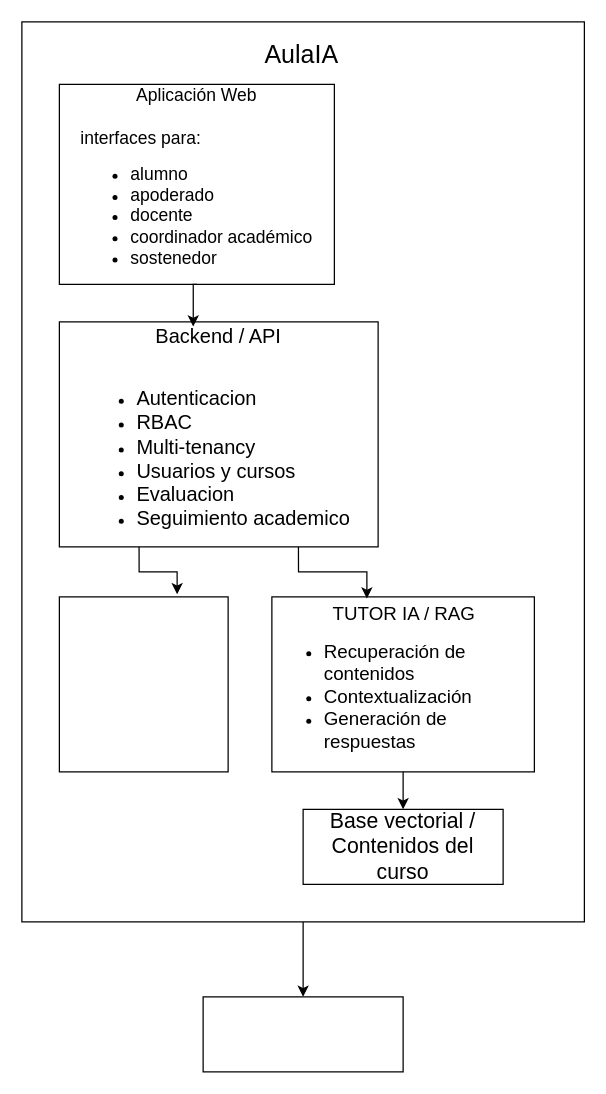
The diagram is 606 pixels wide and 1094 high, and some of its shapes have lost their labels. Each missing label, with the centre of its shape:
Base de datos Colegios Usuarios Cursos Notas Evaluaciones: (143,684)
Servicio / Modelo de IA Externo: (302,1034)
